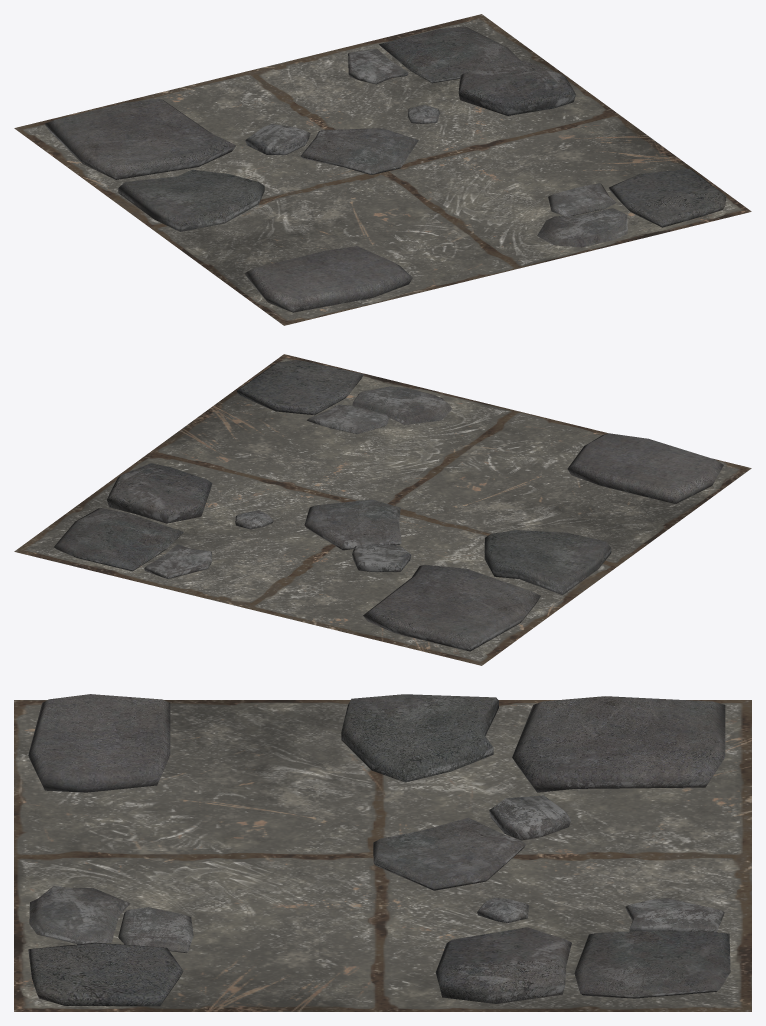
The model's file is Floor3.fbx.
3 renders of one model, top to bottom at view 1: azimuth 30°, elevation 25°; view 2: azimuth 150°, elevation 25°; view 3: azimuth 270°, elevation 25°, orthographic. The views are drawn at different scales.
Parts seen in each view (by area): view 1: Floor3; view 2: Floor3; view 3: Floor3.
Boxes of the visible parts, x1,y1,x2,y2 form: Floor3: [14, 14, 751, 325]; Floor3: [14, 354, 751, 665]; Floor3: [14, 694, 751, 1011].
Bounding box in the file's own units: 3 × 0.0997 × 3.
Materials: 1 (1 with a texture image).
